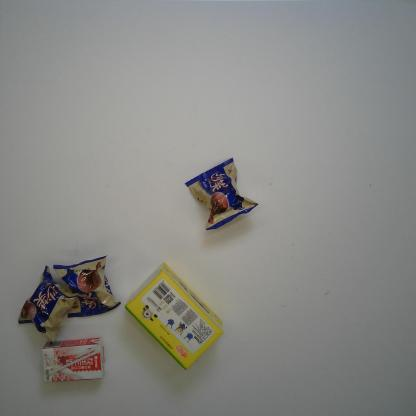Dessert: (183, 156, 259, 232), (17, 264, 79, 345), (52, 255, 122, 320)
Milk: (42, 336, 105, 383)
Tissue: (124, 262, 224, 371)
